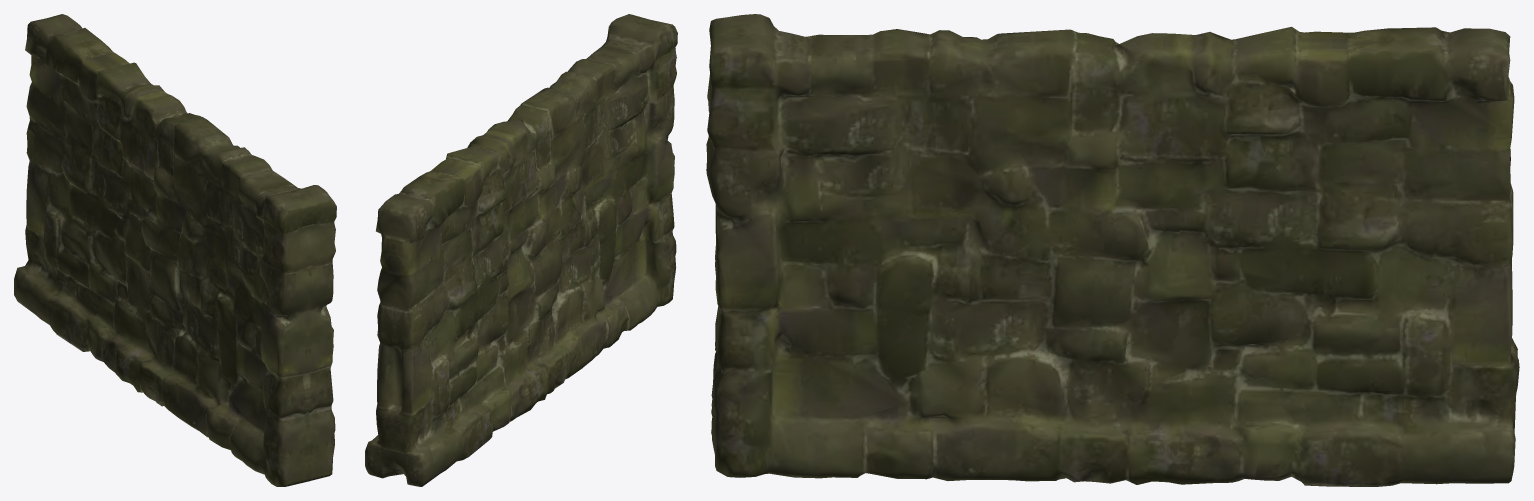
The model's file is Ruins_BrickWall01-transformed.glb.
3 views of the same model, side by side, from view 1: azimuth 30°, elevation 25°; view 2: azimuth 150°, elevation 25°; view 3: azimuth 270°, elevation 25° (orthographic). The views are drawn at different scales.
Parts seen in each view (by area): view 1: Ruins_BrickWall01; view 2: Ruins_BrickWall01; view 3: Ruins_BrickWall01.
Part boxes in pixels (x1,y1,x2,y2): Ruins_BrickWall01: [14, 14, 336, 486]; Ruins_BrickWall01: [365, 14, 677, 486]; Ruins_BrickWall01: [706, 14, 1519, 486].
Size of the model in its own units: 1.15 by 4.47 by 7.53.
Materials: 1 (1 with a texture image).
